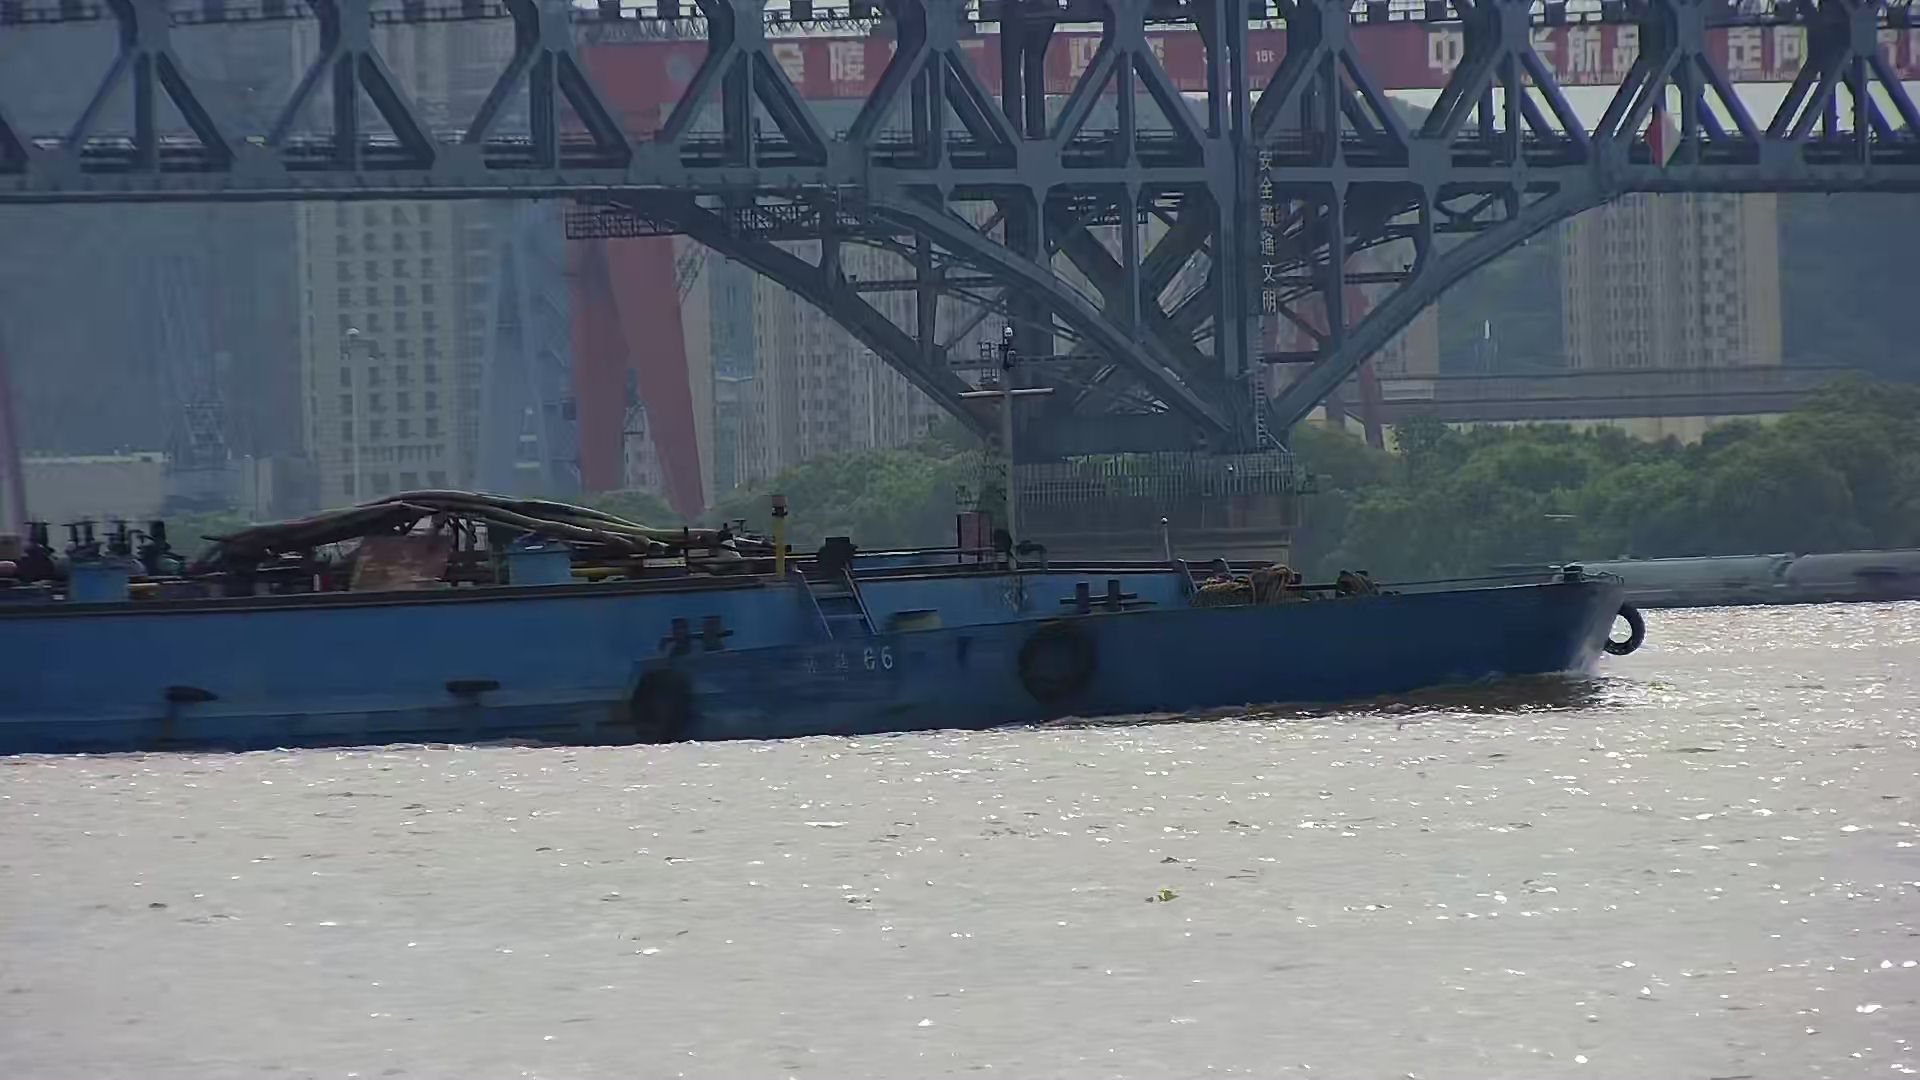bridge: (1, 1, 1920, 567)
ship: (1, 326, 1644, 756)
